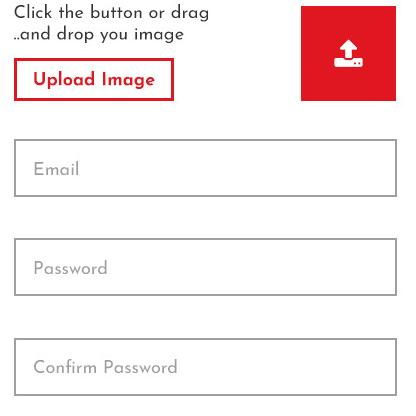button: (13, 55, 177, 104)
field: (9, 234, 403, 301), (12, 335, 400, 400), (12, 136, 402, 198)
